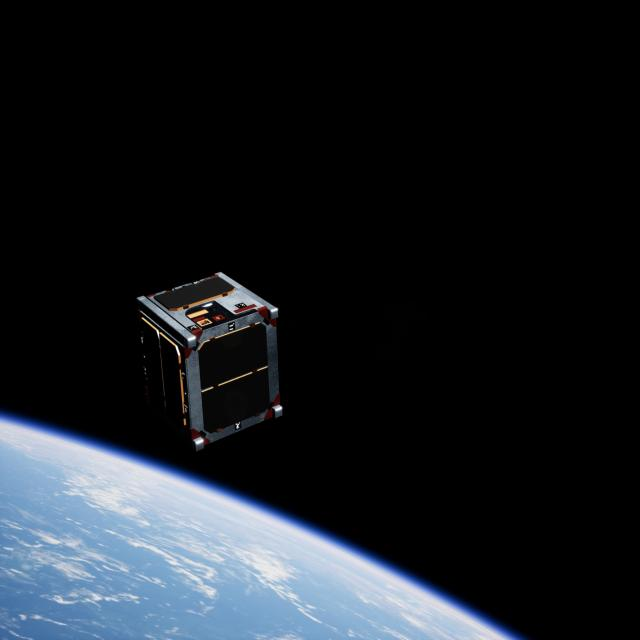medium_debris: (129, 270, 289, 457)
